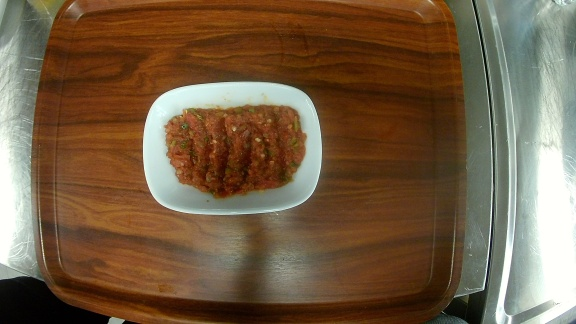acilimeze: (143, 81, 323, 214)
